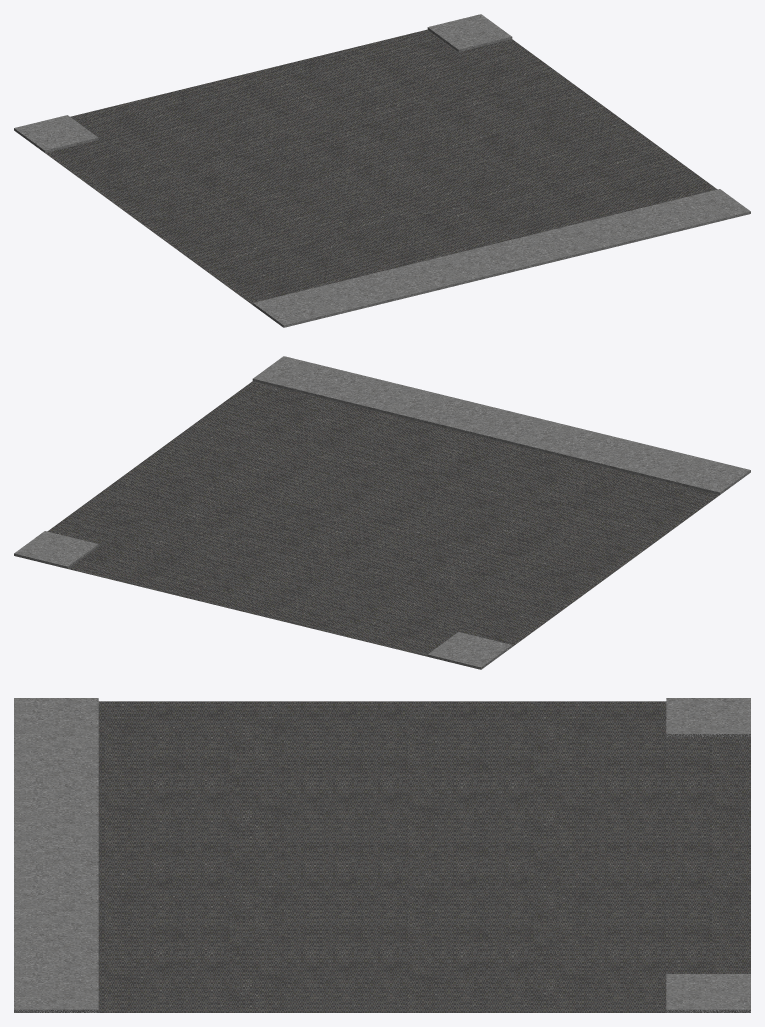
The model's file is Highway_T.glb.
The picture shows the model from 3 angles, top to bottom: view 1: azimuth 30°, elevation 25°; view 2: azimuth 150°, elevation 25°; view 3: azimuth 270°, elevation 25°; orthographic projection. The views are drawn at different scales.
Parts seen in each view (by area): view 1: Highway_T; view 2: Highway_T; view 3: Highway_T.
Part boxes in pixels (left/top/right/bottom): Highway_T: left=14, top=14, right=750, bottom=327; Highway_T: left=14, top=356, right=750, bottom=669; Highway_T: left=14, top=698, right=750, bottom=1012.
Size of the model in its own units: 24.29 by 0.1182 by 24.29.
Materials: 2 (2 with a texture image).
